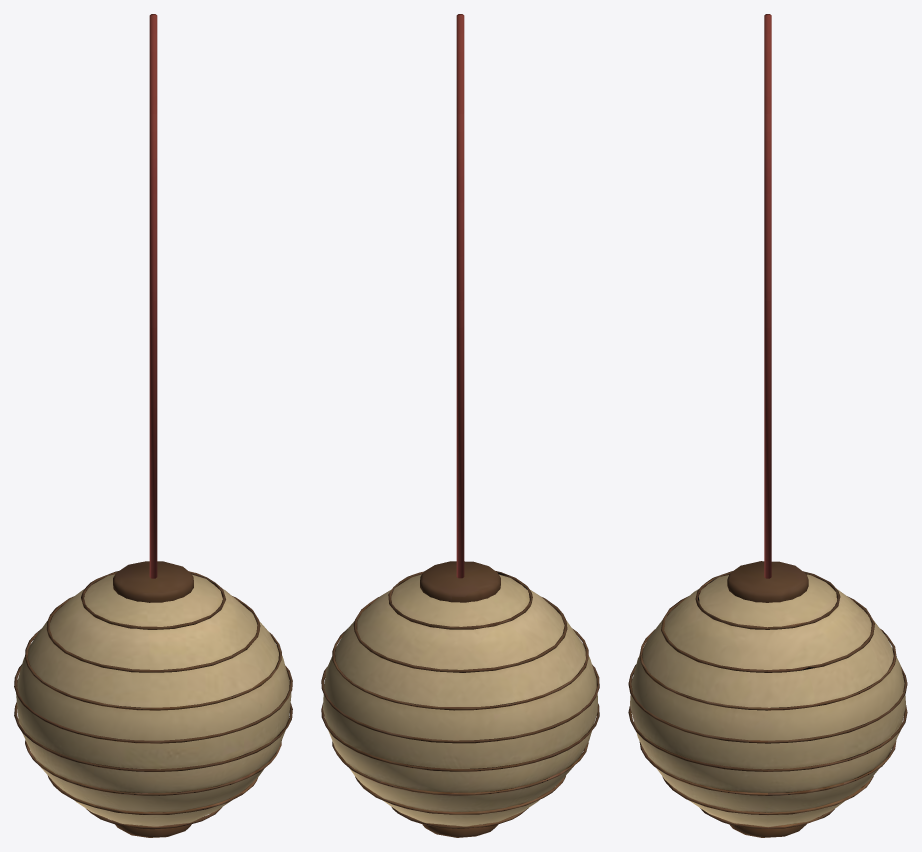
The model's file is pendant_lantern.glb.
The picture shows the model from 3 angles, left to right: view 1: azimuth 30°, elevation 25°; view 2: azimuth 150°, elevation 25°; view 3: azimuth 270°, elevation 25°; orthographic projection.
Visible parts, largest first — view 1: prop_pendant_lantern_paper, prop_pendant_lantern_wood, prop_pendant_lantern_felt; view 2: prop_pendant_lantern_paper, prop_pendant_lantern_wood, prop_pendant_lantern_felt; view 3: prop_pendant_lantern_paper, prop_pendant_lantern_wood, prop_pendant_lantern_felt.
Part boxes in pixels (x1,y1,x2,y2): prop_pendant_lantern_paper: [16, 574, 291, 826]; prop_pendant_lantern_wood: [14, 561, 292, 837]; prop_pendant_lantern_felt: [149, 14, 157, 578]; prop_pendant_lantern_paper: [323, 574, 597, 826]; prop_pendant_lantern_wood: [321, 561, 599, 837]; prop_pendant_lantern_felt: [456, 14, 464, 578]; prop_pendant_lantern_paper: [630, 574, 905, 827]; prop_pendant_lantern_wood: [628, 561, 907, 837]; prop_pendant_lantern_felt: [764, 14, 771, 578].
Size of the model in its own units: 0.889 by 2.84 by 0.8894.
Materials: 3 (3 with a texture image).
